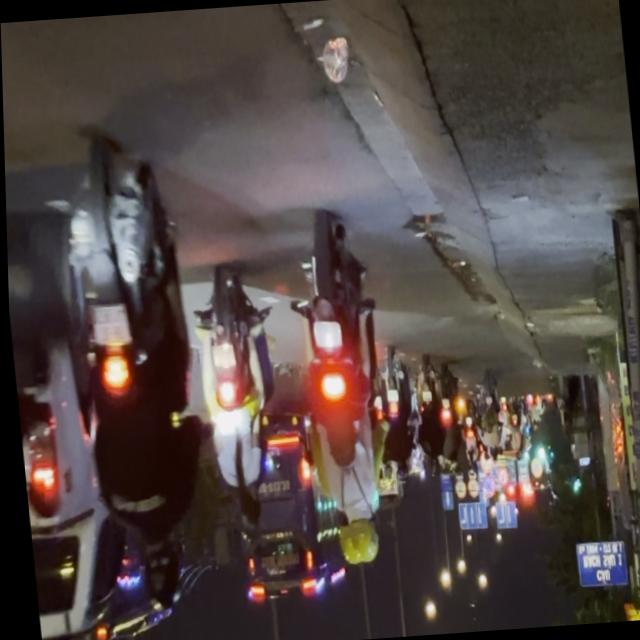helmet: (130, 534, 179, 616), (338, 508, 377, 562)
licenseplate: (45, 120, 217, 626), (283, 210, 397, 572), (185, 268, 285, 536)
motorcyclist: (230, 482, 259, 530)
nohelmet: (86, 304, 128, 347), (308, 320, 339, 350), (208, 344, 233, 368)
